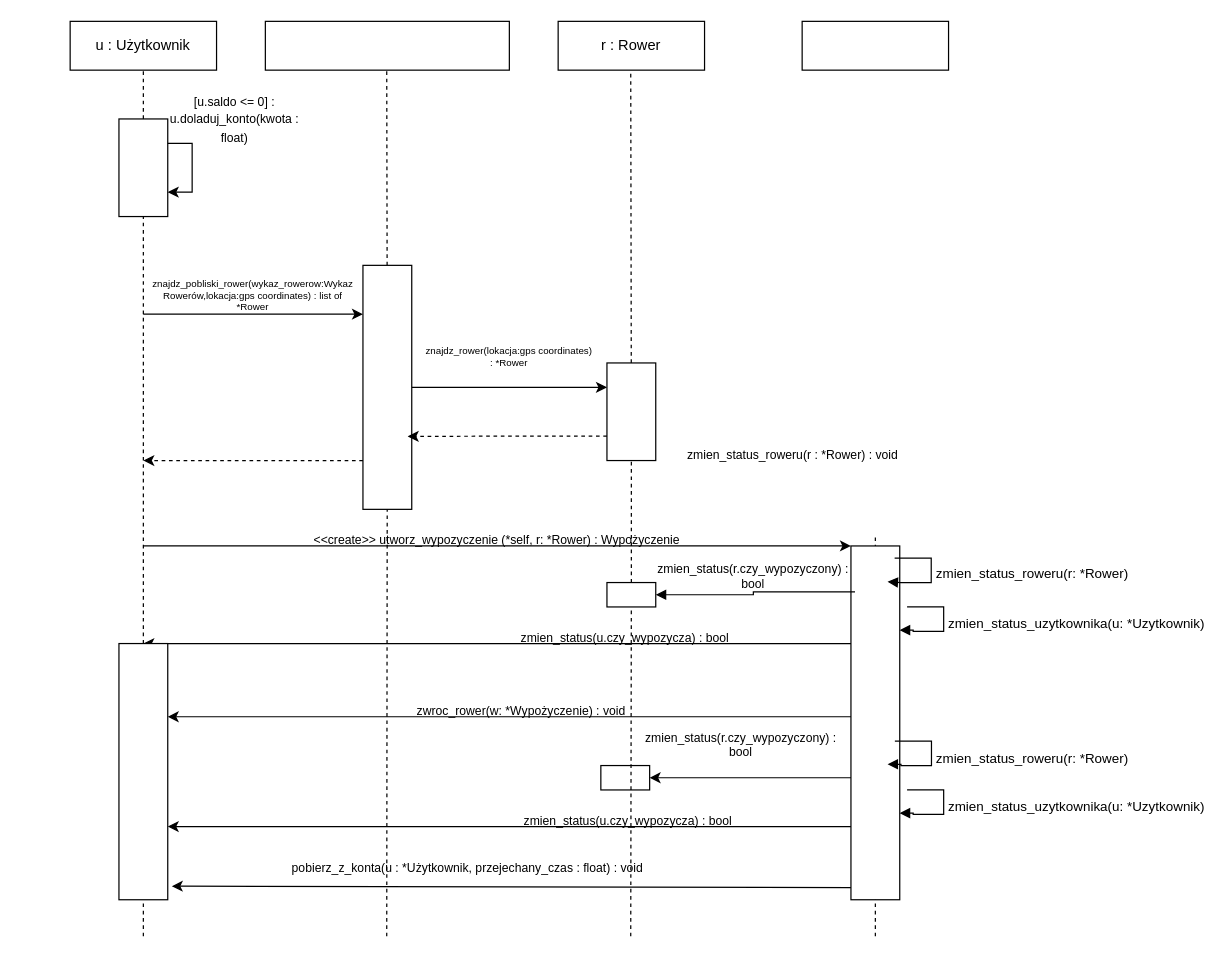
Some shapes in this 1225 by 959 pixel diagram are drawn without their labels. Here are the shapes that lost their labels. From the top down, the centre of each, then its label:
At [386,45]: "wykaz_rowerow : Wykaz Rowerów".
At [875,45]: "w : Wypożyczenie".
